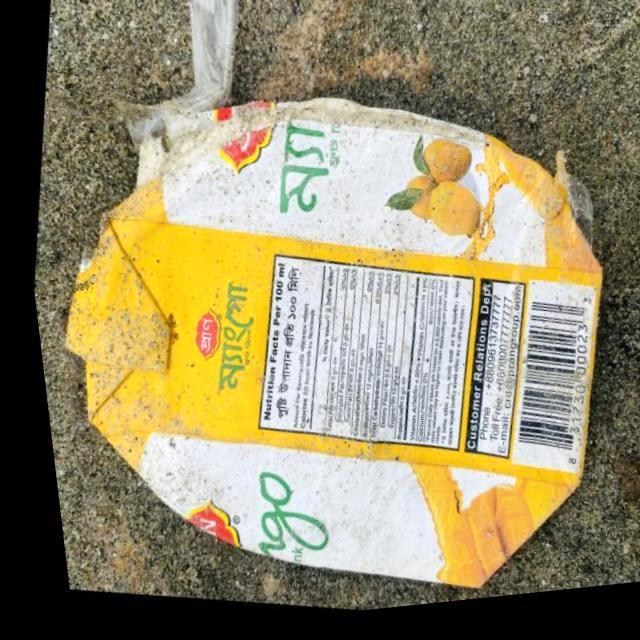packet: (8, 32, 640, 640)
